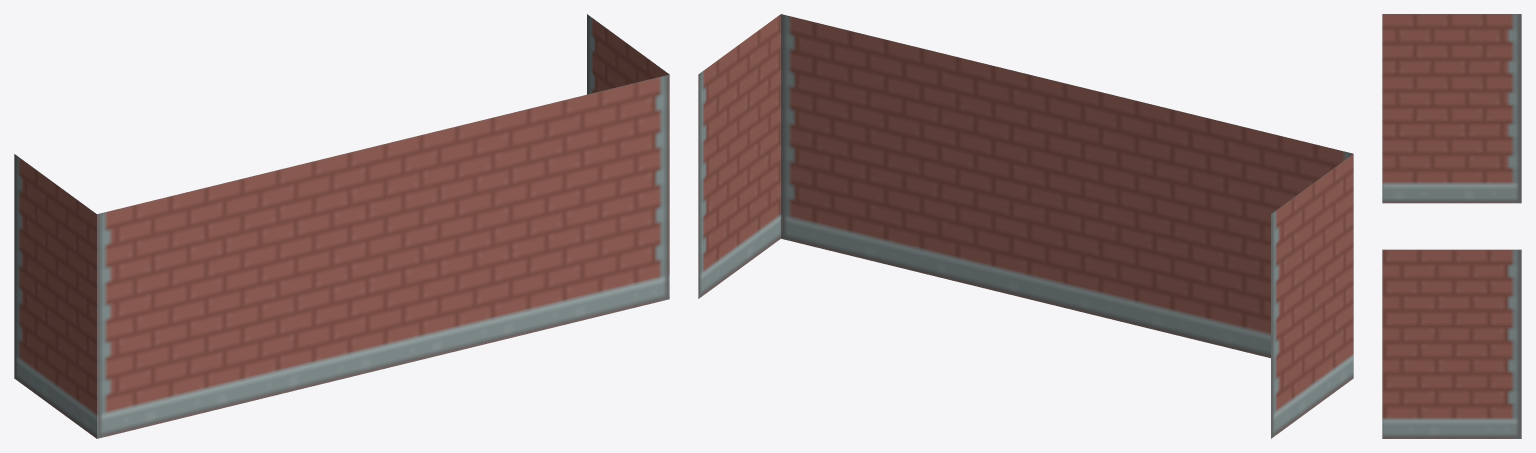
The model's file is bulding_segment.obj.
3 views of the same model, side by side, from view 1: azimuth 30°, elevation 25°; view 2: azimuth 150°, elevation 25°; view 3: azimuth 270°, elevation 25° (orthographic). The views are drawn at different scales.
Visible parts, largest first — view 1: Plane; view 2: Plane; view 3: Plane.
Boxes of the visible parts, left/top/right/bottom form: Plane: left=14, top=14, right=669, bottom=438; Plane: left=698, top=14, right=1353, bottom=438; Plane: left=1382, top=14, right=1521, bottom=438.
Bounding box in the file's own units: 16 × 6 × 4.
